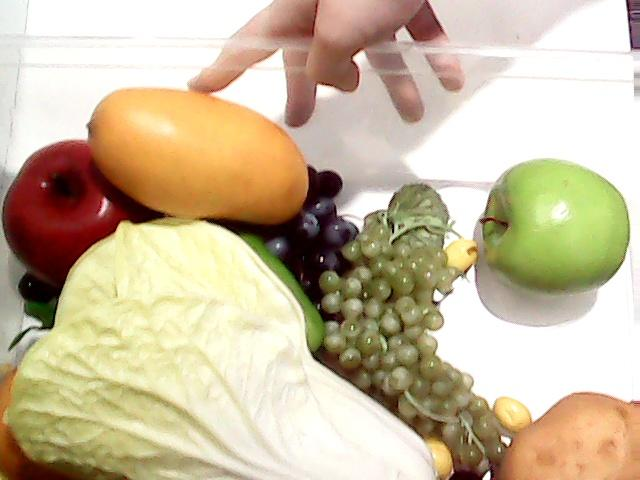apple: (469, 154, 631, 298), (0, 134, 142, 294)
grape: (300, 181, 504, 471), (215, 155, 365, 325)
lemon: (0, 371, 67, 480)
mango: (83, 83, 313, 223)
napa cabbage: (8, 205, 430, 480)
pepper: (194, 214, 326, 354)
potato: (491, 391, 640, 480)
